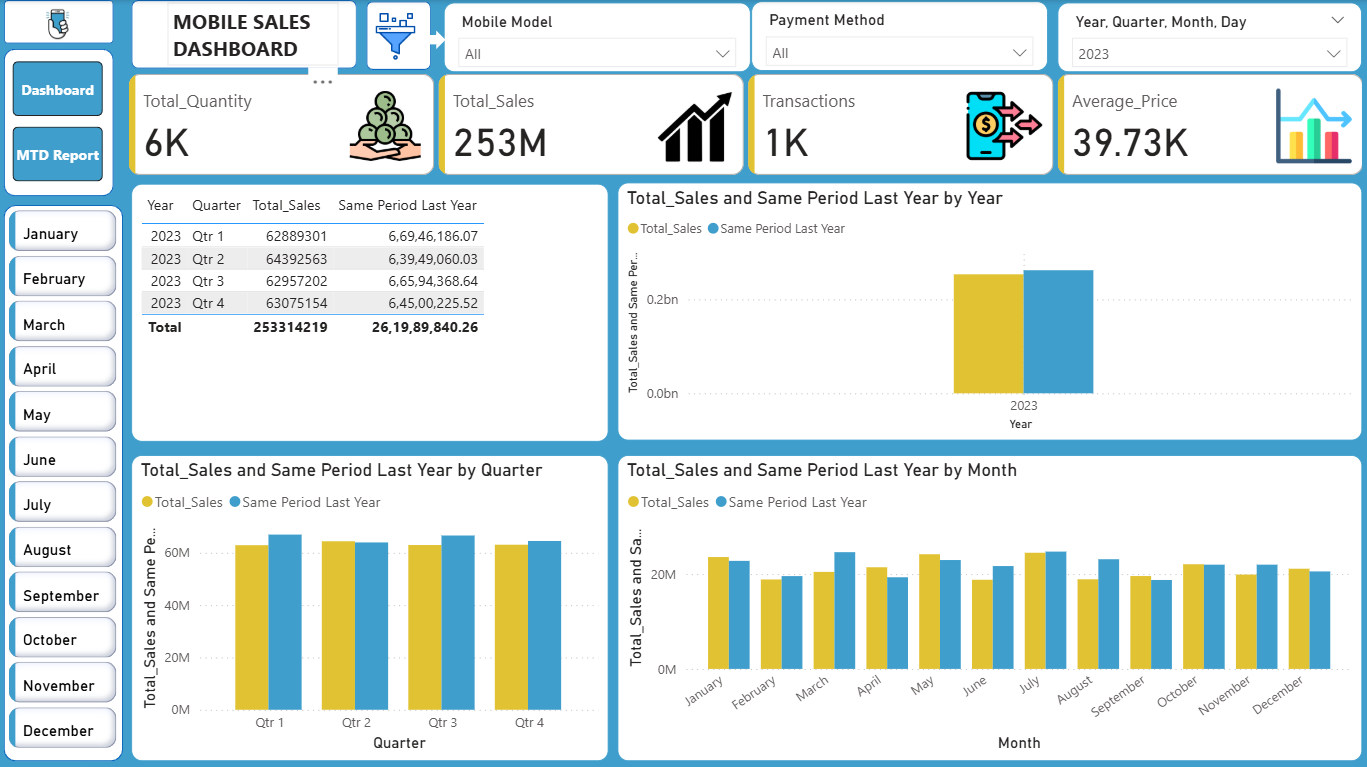

The page's visual inventory and layout, read from the dashboard file:
{"tool":"powerbi","page":{"name":"Same Period Last Year","canvas":[1280,720],"ordinal":2},"visuals":[{"type":"shape","box":[3.5,0,102.3,40.7],"z":0},{"type":"image","box":[29.1,0,50,45.3],"z":1000},{"type":"shape","box":[3.5,45.3,102.3,137.2],"z":2000},{"type":"cardVisual","fields":{"Data":["Sales_Data.Total_Quantity","Sales_Data.Total_Sales","Sales_Data.Transactions","Sales_Data.Average_Price"]},"box":[114.6,63.9,1160.6,105],"z":3000},{"type":"slicer","fields":{"Values":["Sales_Data.Mobile Model"]},"box":[412.6,2.4,285.9,65.1],"z":4000},{"type":"slicer","fields":{"Values":["Sales_Data.Payment Method"]},"box":[698.5,1.2,276.3,65.1],"z":5000},{"type":"slicer","fields":{"Values":["Custom_Calender.Date.Variation.Date Hierarchy.Year","Custom_Calender.Date.Variation.Date Hierarchy.Quarter","Custom_Calender.Date.Variation.Date Hierarchy.Month","Custom_Calender.Date.Variation.Date Hierarchy.Day"]},"box":[983.2,2.4,283.5,65.1],"z":6000},{"type":"shape","box":[340.2,1.2,60.3,63.9],"z":7000},{"type":"image","box":[340.2,6,54.3,55.5],"z":8000},{"type":"shape","box":[121.9,0,209.9,63.9],"z":9000},{"type":"shape","box":[3.6,190.6,111,517.6],"z":11000},{"type":"advancedSlicerVisual","fields":{"Values":["Custom_Calender.Date.Variation.Date Hierarchy.Month"]},"box":[3.6,190.6,111,517.6],"z":12000},{"type":"tableEx","fields":{"Values":["Custom_Calender.Date.Variation.Date Hierarchy.Year","Custom_Calender.Date.Variation.Date Hierarchy.Quarter","Sales_Data.Total_Sales","Sales_Data.Same Period Last Year"]},"box":[121.9,171.3,444,240.1],"z":13000},{"type":"clusteredColumnChart","fields":{"Category":["Custom_Calender.Date.Variation.Date Hierarchy.Year","Custom_Calender.Date.Variation.Date Hierarchy.Quarter","Custom_Calender.Date.Variation.Date Hierarchy.Month","Custom_Calender.Date.Variation.Date Hierarchy.Day"],"Y":["Sales_Data.Total_Sales","Sales_Data.Same Period Last Year"]},"box":[574.3,170.1,692.5,240.1],"z":14000},{"type":"clusteredColumnChart","fields":{"Category":["Custom_Calender.Date.Variation.Date Hierarchy.Year","Custom_Calender.Date.Variation.Date Hierarchy.Quarter","Custom_Calender.Date.Variation.Date Hierarchy.Month","Custom_Calender.Date.Variation.Date Hierarchy.Day"],"Y":["Sales_Data.Total_Sales","Sales_Data.Same Period Last Year"]},"box":[574.3,423.5,692.5,284.7],"z":15000},{"type":"clusteredColumnChart","fields":{"Category":["Custom_Calender.Date.Variation.Date Hierarchy.Year","Custom_Calender.Date.Variation.Date Hierarchy.Quarter","Custom_Calender.Date.Variation.Date Hierarchy.Month","Custom_Calender.Date.Variation.Date Hierarchy.Day"],"Y":["Sales_Data.Total_Sales","Sales_Data.Same Period Last Year"]},"box":[121.9,423.5,444,284.7],"z":16000},{"type":"pageNavigator","box":[12.1,56.7,84.5,113.4],"z":17000},{"type":"shape","box":[394.5,27.7,20.5,18.1],"z":18000},{"type":"textbox","box":[155.8,2.3,159.3,59.3],"z":18001}]}

Visuals, with their boxes in screenshot pixels (x1, y1, x2, y2), scaled from the page's 1280x720 canvas onto the 1367x767 screenshot:
shape: left=4, top=0, right=113, bottom=43
image: left=31, top=0, right=84, bottom=48
shape: left=4, top=48, right=113, bottom=194
cardVisual - Sales_Data.Total_Quantity x Sales_Data.Total_Sales: left=122, top=68, right=1362, bottom=180
slicer - Sales_Data.Mobile Model: left=441, top=3, right=746, bottom=72
slicer - Sales_Data.Payment Method: left=746, top=1, right=1041, bottom=71
slicer - Custom_Calender.Date.Variation.Date Hierarchy.Year x Custom_Calender.Date.Variation.Date Hierarchy.Quarter: left=1050, top=3, right=1353, bottom=72
shape: left=363, top=1, right=428, bottom=69
image: left=363, top=6, right=421, bottom=66
shape: left=130, top=0, right=354, bottom=68
shape: left=4, top=203, right=122, bottom=754
advancedSlicerVisual - Custom_Calender.Date.Variation.Date Hierarchy.Month: left=4, top=203, right=122, bottom=754
tableEx - Custom_Calender.Date.Variation.Date Hierarchy.Year x Custom_Calender.Date.Variation.Date Hierarchy.Quarter: left=130, top=182, right=604, bottom=438
clusteredColumnChart - Custom_Calender.Date.Variation.Date Hierarchy.Year x Custom_Calender.Date.Variation.Date Hierarchy.Quarter: left=613, top=181, right=1353, bottom=437
clusteredColumnChart - Custom_Calender.Date.Variation.Date Hierarchy.Year x Custom_Calender.Date.Variation.Date Hierarchy.Quarter: left=613, top=451, right=1353, bottom=754
clusteredColumnChart - Custom_Calender.Date.Variation.Date Hierarchy.Year x Custom_Calender.Date.Variation.Date Hierarchy.Quarter: left=130, top=451, right=604, bottom=754
pageNavigator: left=13, top=60, right=103, bottom=181
shape: left=421, top=30, right=443, bottom=49
textbox: left=166, top=2, right=337, bottom=66
